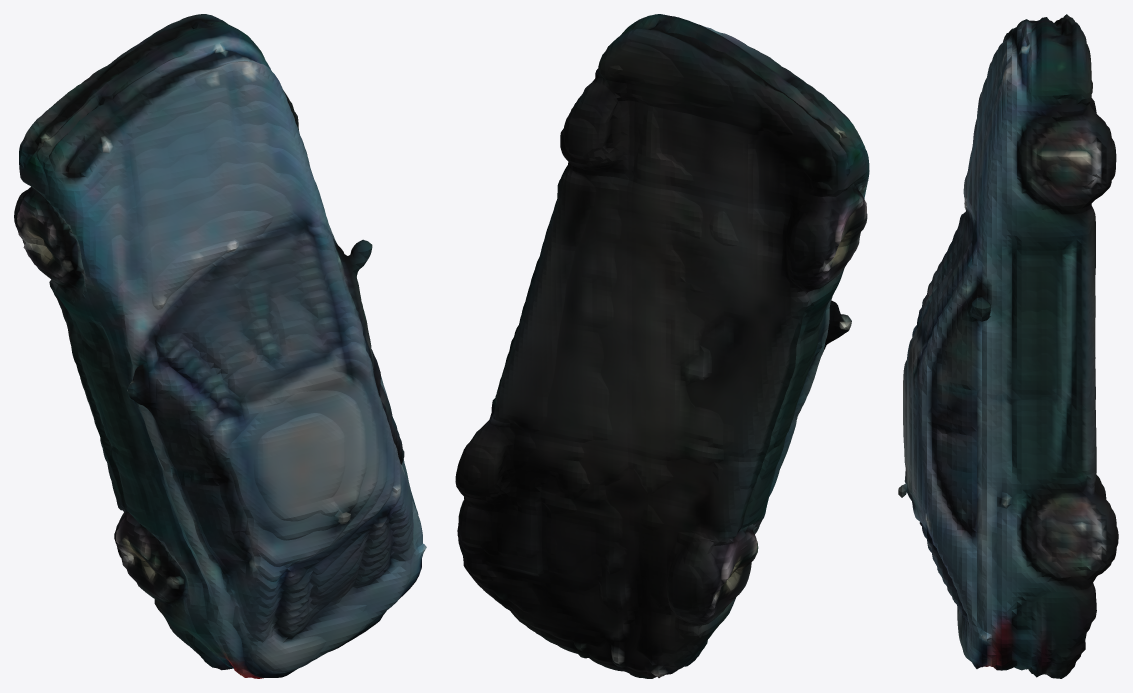
File: asdasd1717046897.obj
3 views of the same model, side by side, from view 1: azimuth 30°, elevation 25°; view 2: azimuth 150°, elevation 25°; view 3: azimuth 270°, elevation 25° (orthographic). The views are drawn at different scales.
Size of the model in its own units: 0.5595 by 0.918 by 0.3009.
